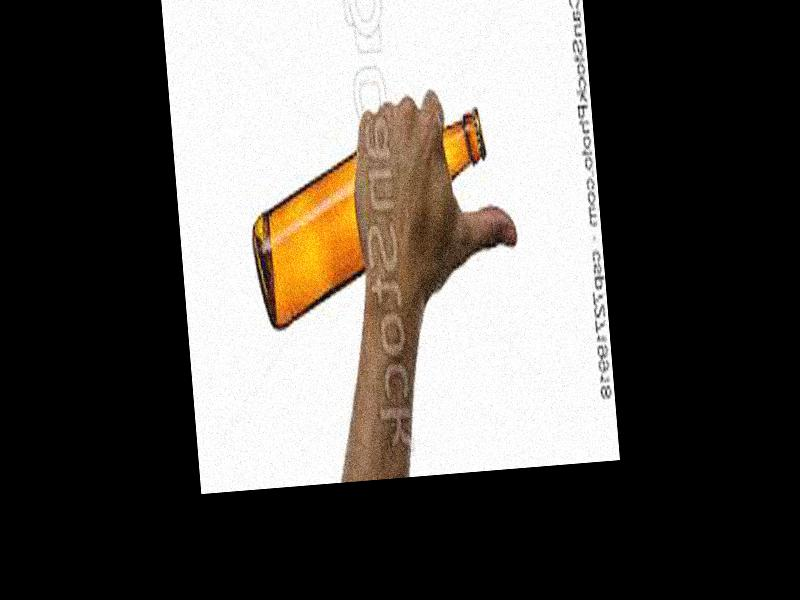Beer: (244, 110, 497, 332)
